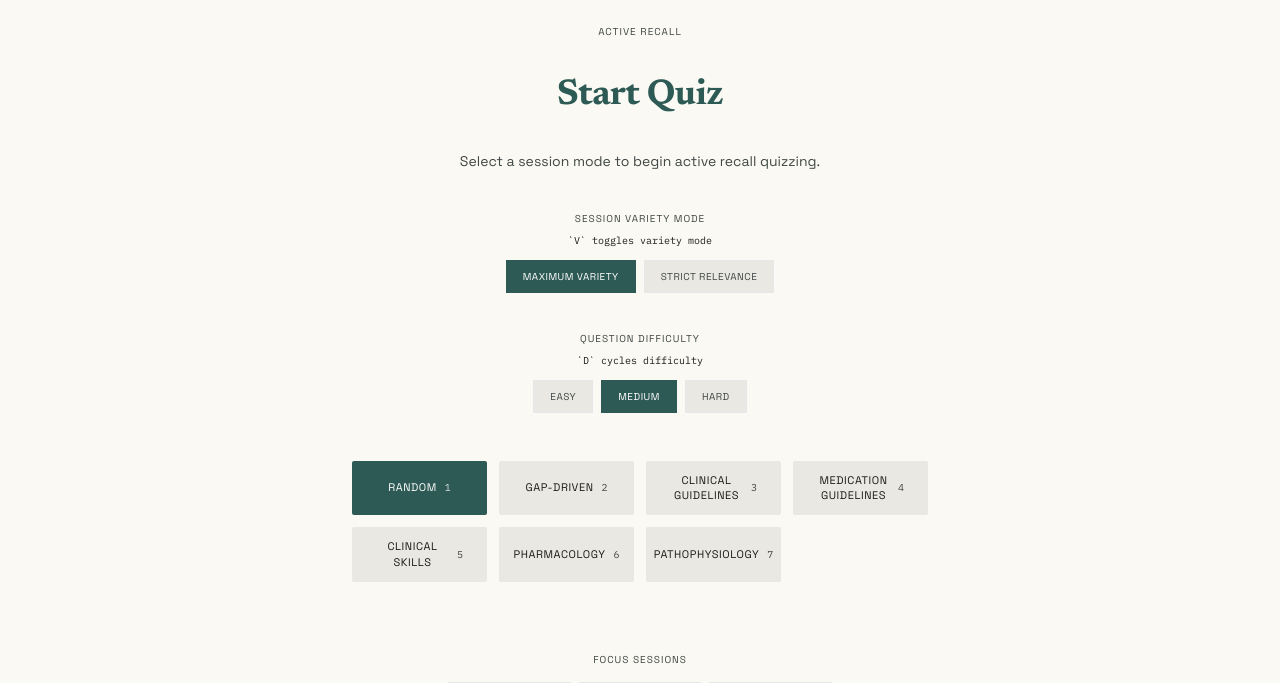
Scenario: Quiz page › opens full analysis with ctrl+shift+a from inline feedback
The image size is (1280, 683).
Type keys "1"
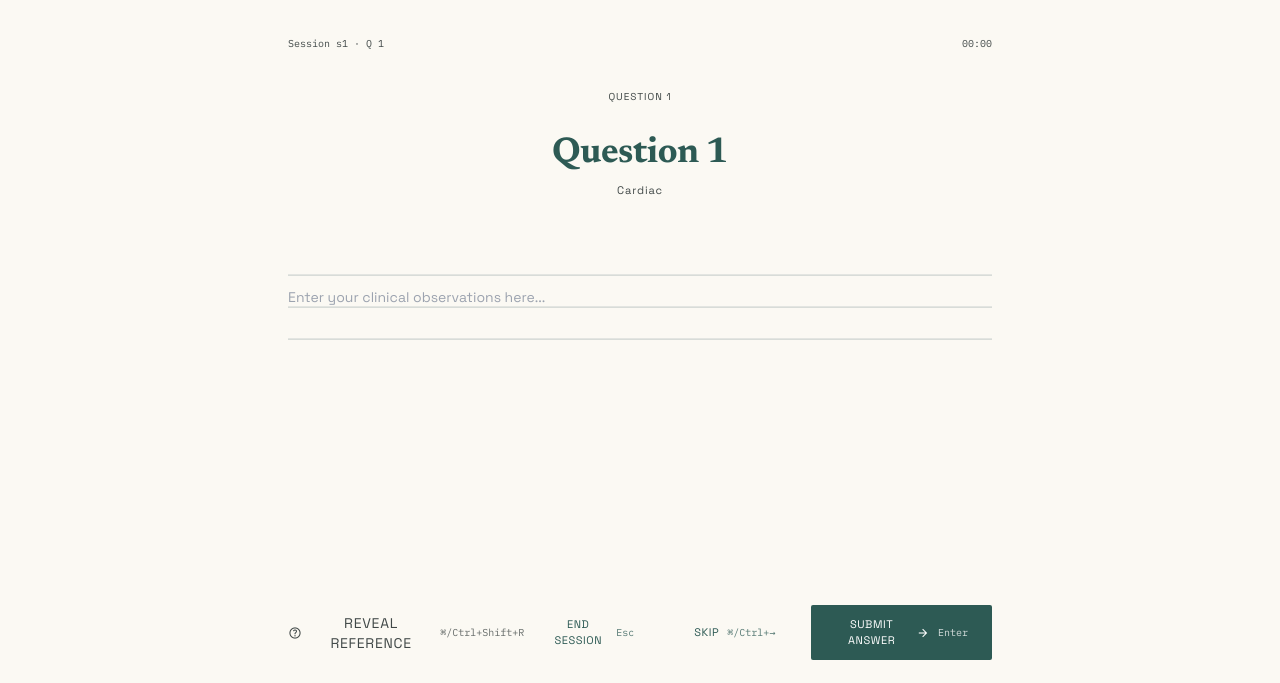
Expected: the text box with placeholder "Enter your clinical observations here..." is shown
Type "clinical answer" into the text box with placeholder "Enter your clinical observations here...". click: (640, 305)
box: [288,249,992,361]
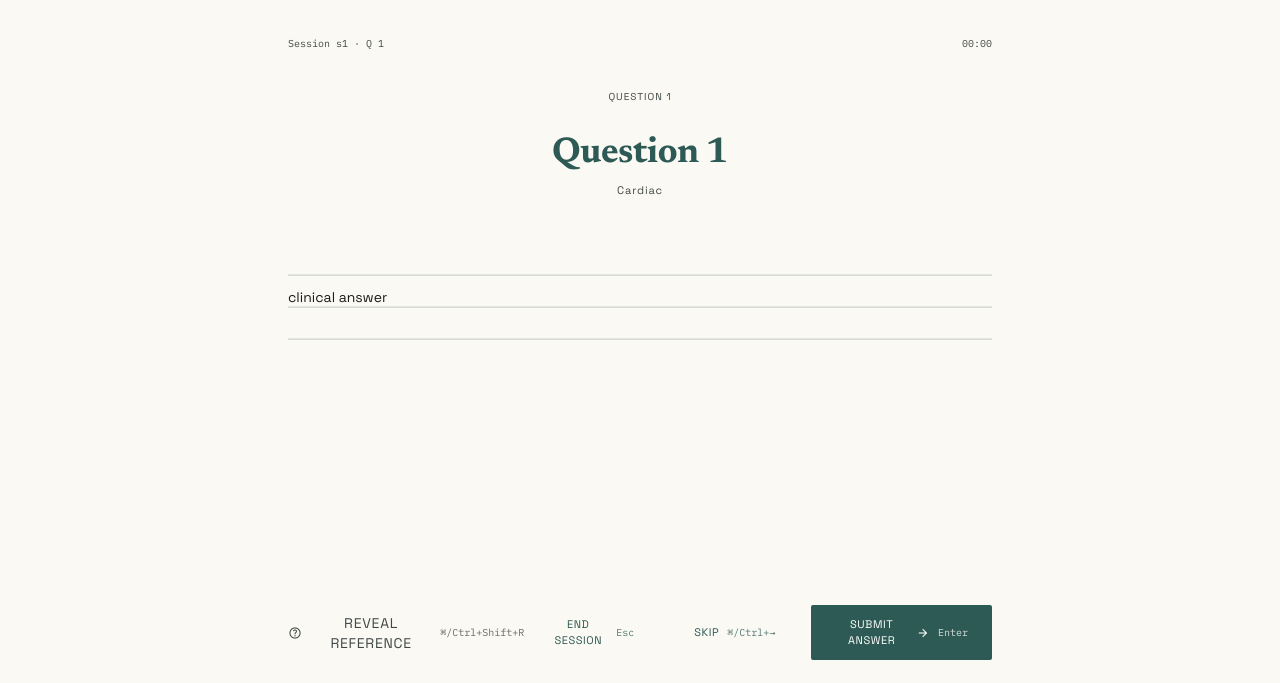
Type "answer" into the text box with placeholder "Enter your clinical observations here...". click: (640, 305)
box: [288,249,992,361]
Then press Enter
(page scrolled)
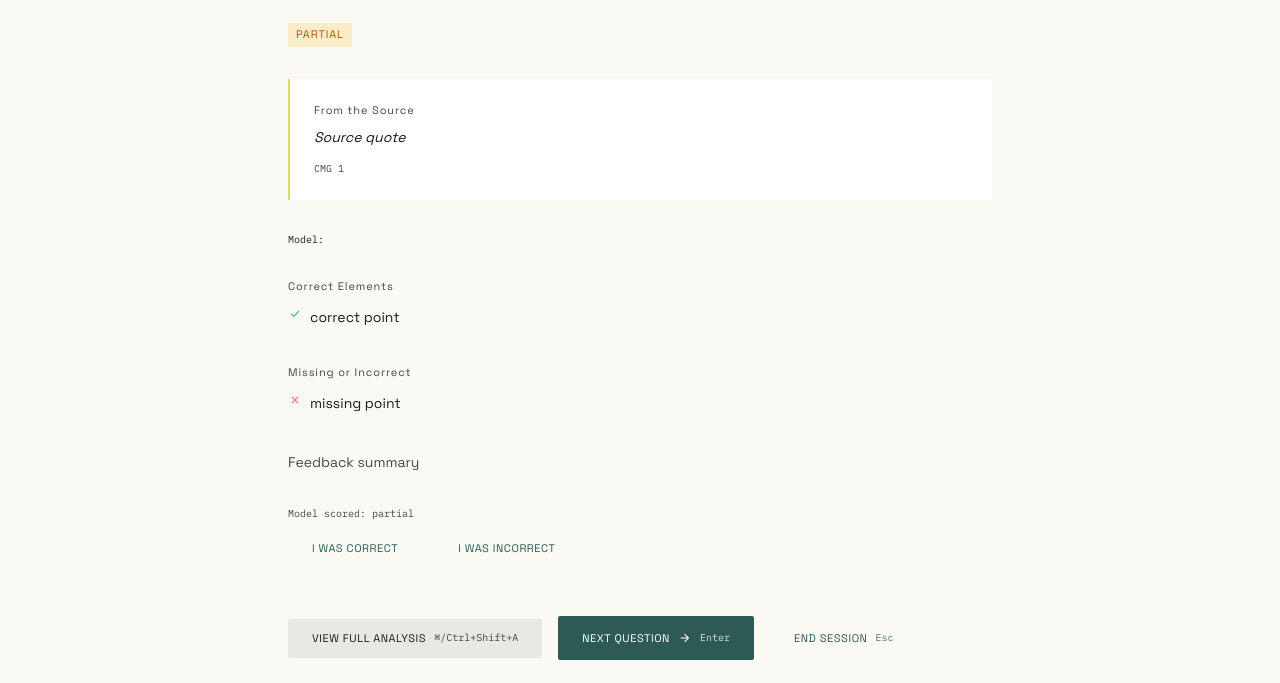
Expected: the button "View Full Analysis ⌘/Ctrl+Shift+A" is shown, [288,619,542,658]
Type keys "{Control>}{Shift>}A{/Shift}{/Control}"
(page scrolled)
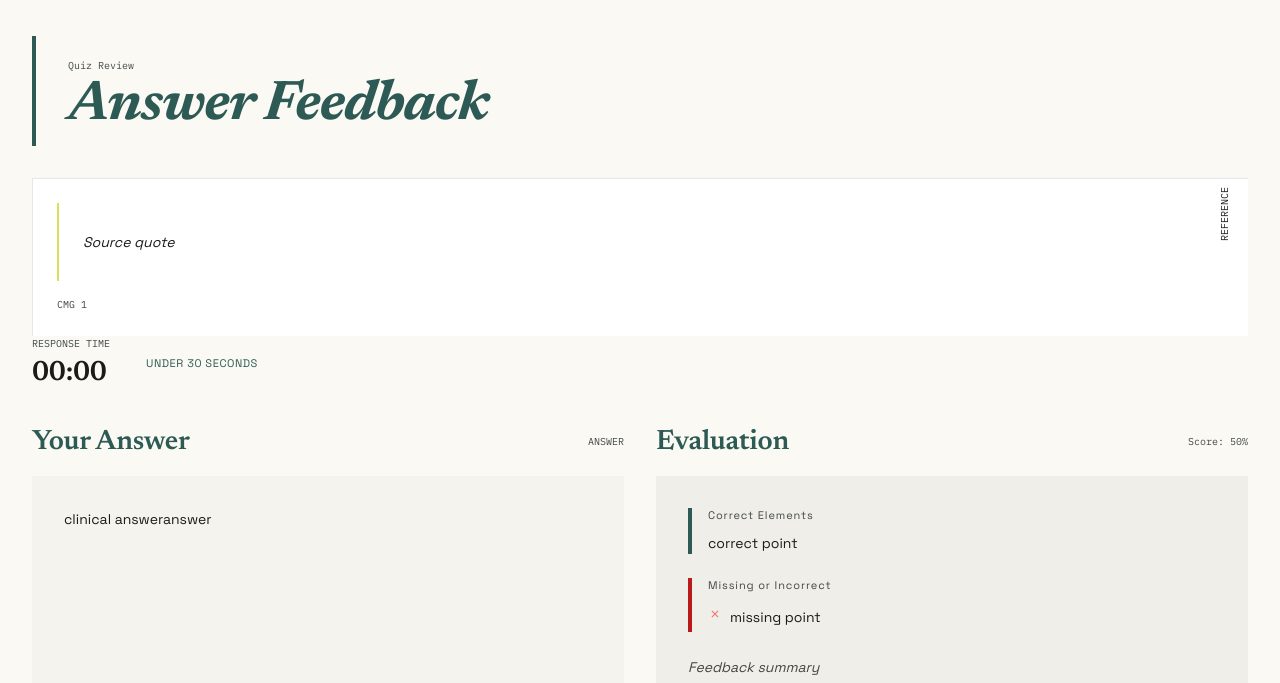
Expected: the heading "Answer Feedback" is shown, [68,78,489,134]
